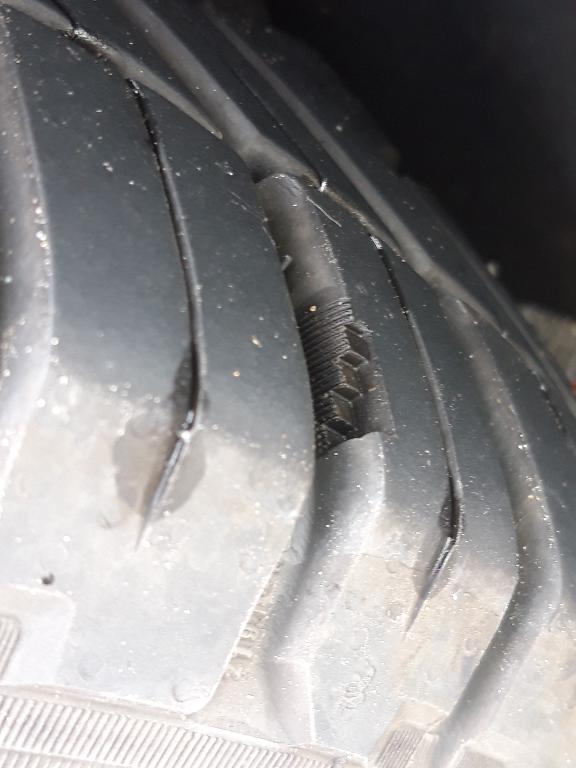temoin:90: (295, 294, 402, 462)
